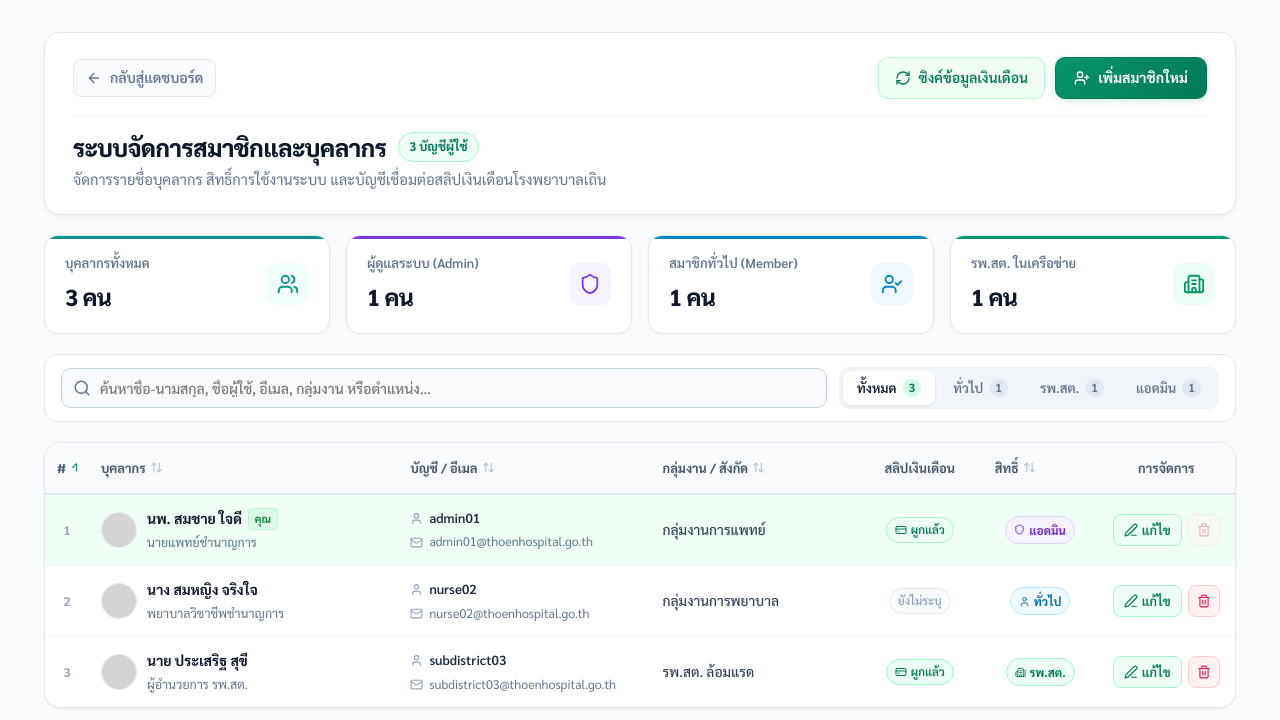
Test: MembersAdminClient Component › filters members by role tabs
The image size is (1280, 720).
Click the tab "รพ.สต. 1".
click(1072, 388)  # box [1026,371,1118,405]
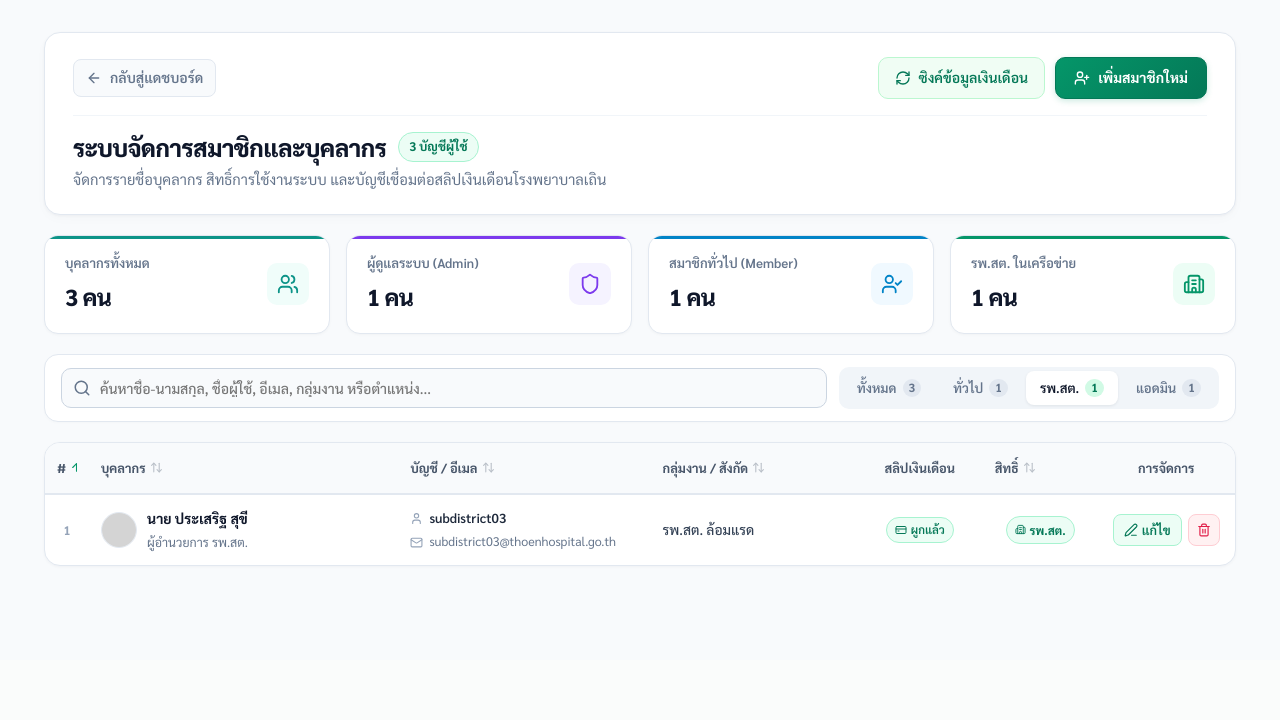
Expected: the text "นพ. สมชาย ใจดี" is gone
Expected: the text "นาง สมหญิง จริงใจ" is gone
